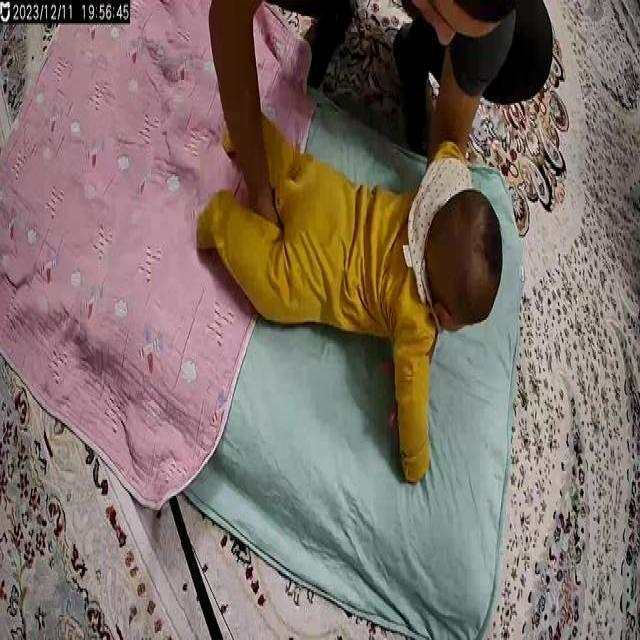baby: (195, 86, 505, 500)
